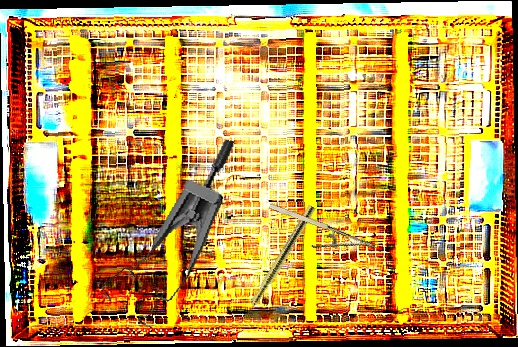Handpiece: (237, 203, 317, 326)
Needle Holder: (261, 199, 377, 271)
Speculum: (95, 119, 237, 338)
